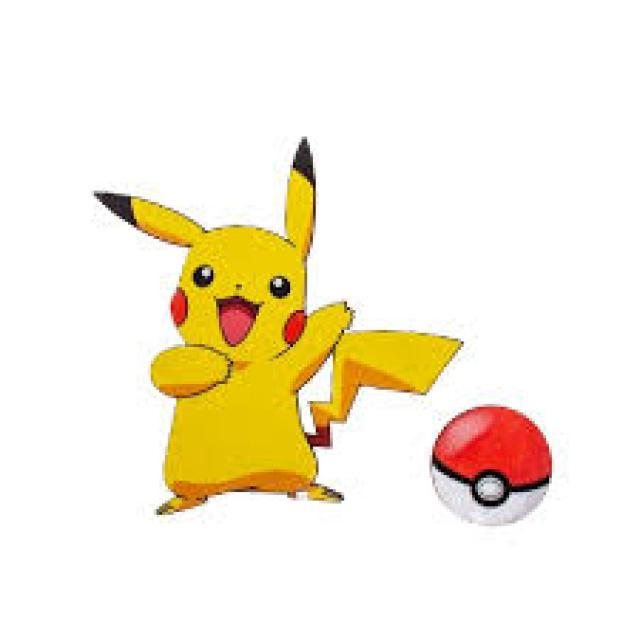pikachu: (91, 134, 477, 532)
